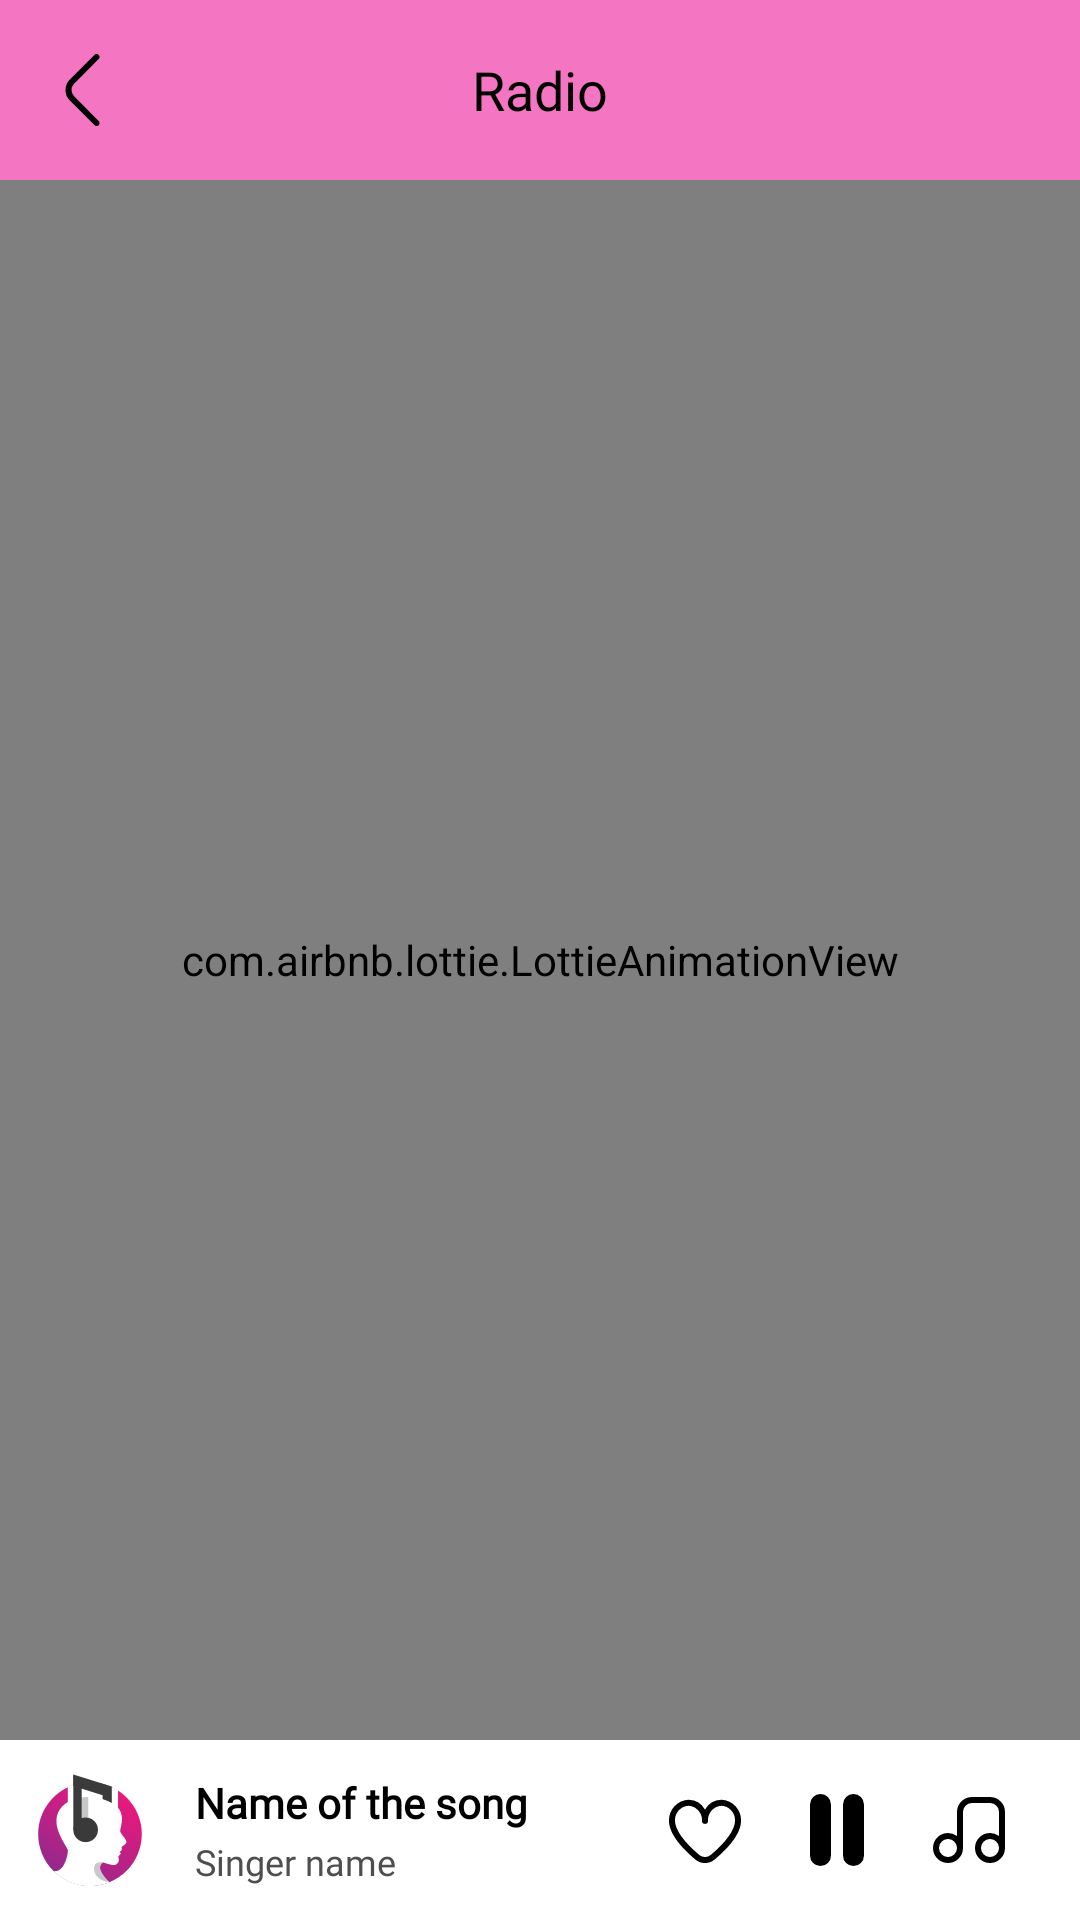

Point at icon controls on the screen. Image size 1080*1920, points as point (x, y).
angle left: point (82, 90)
music note: point (969, 1830)
not favorite: point (705, 1831)
pause: point (837, 1830)
